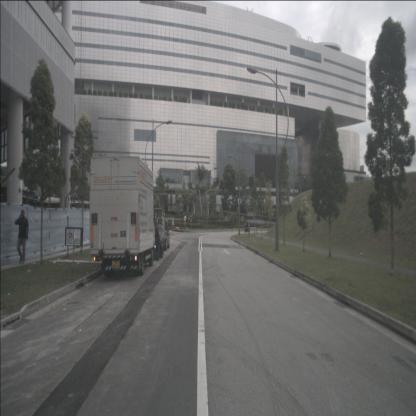human-pedestrian-adult: (14, 210, 29, 264)
vehicle-car: (146, 222, 170, 251)
vehicle-motorcycle: (244, 221, 251, 233)
vehicle-truck: (89, 154, 156, 278), (139, 208, 165, 261)
